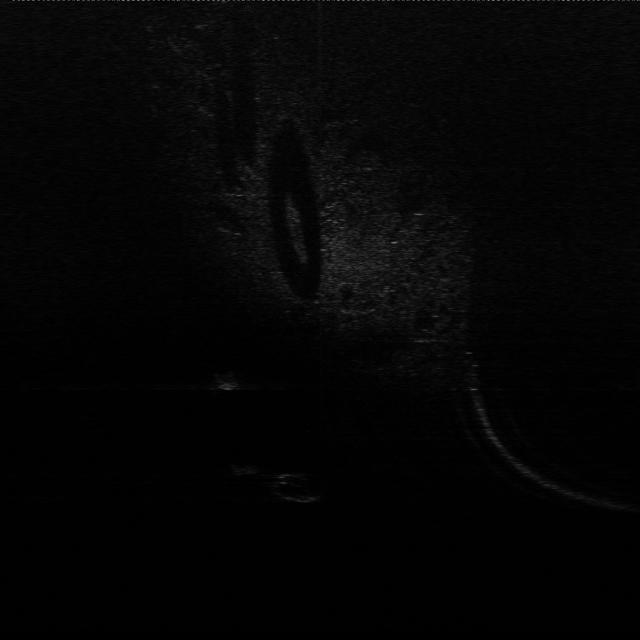cube: (230, 457, 260, 482)
square cage: (213, 366, 246, 393)
tyre: (276, 468, 324, 505)
